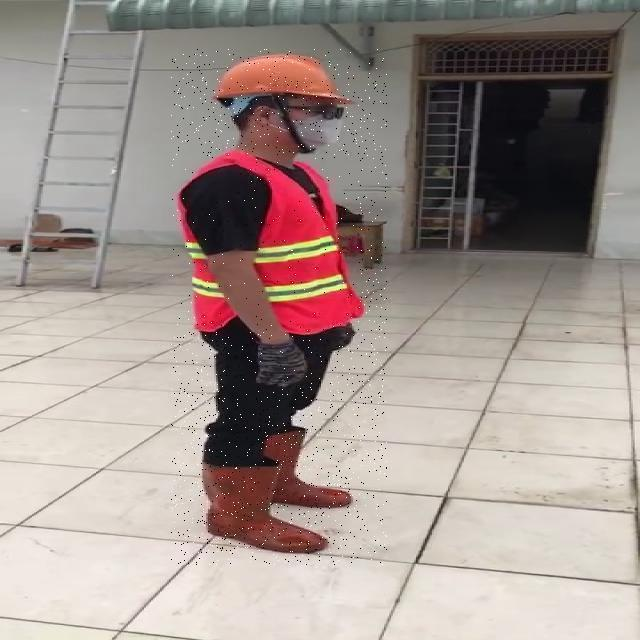gloves: (255, 337, 309, 388)
goggles: (258, 101, 350, 121)
helmet: (212, 54, 352, 104)
safety_vest: (170, 158, 358, 332)
